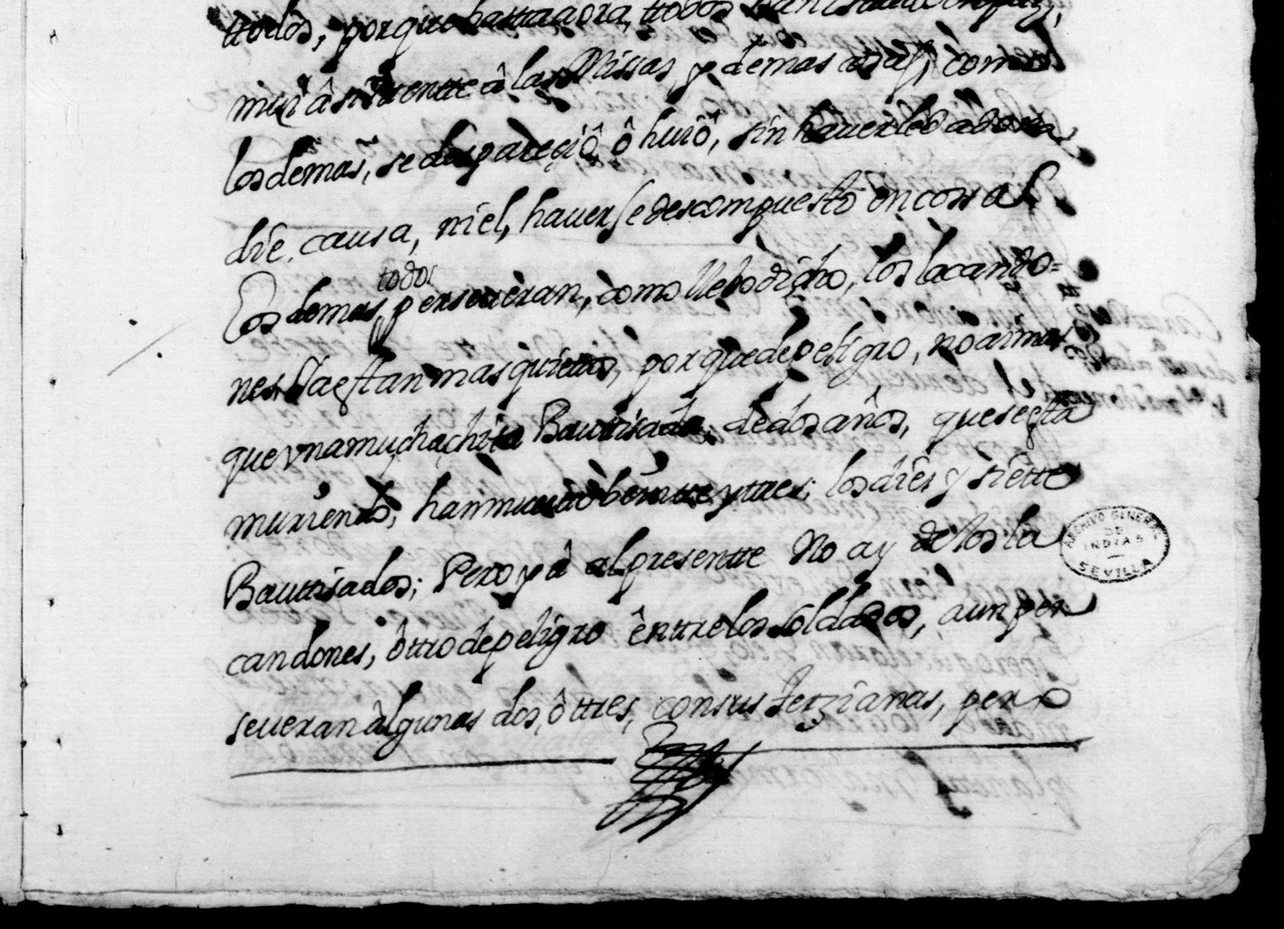lacandon: (914, 226, 1054, 285)
